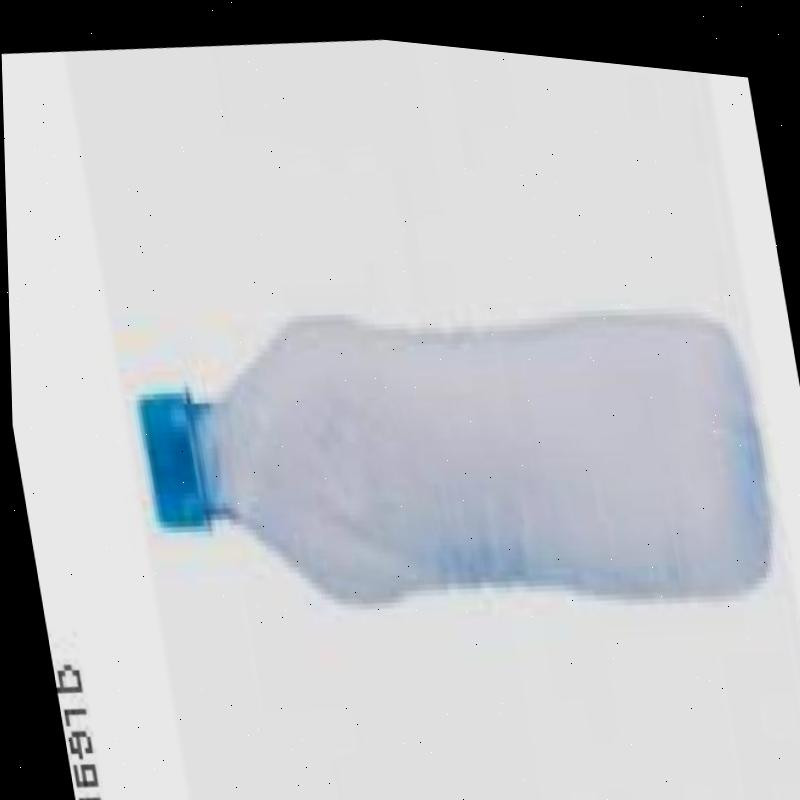botella: (122, 235, 783, 670)
